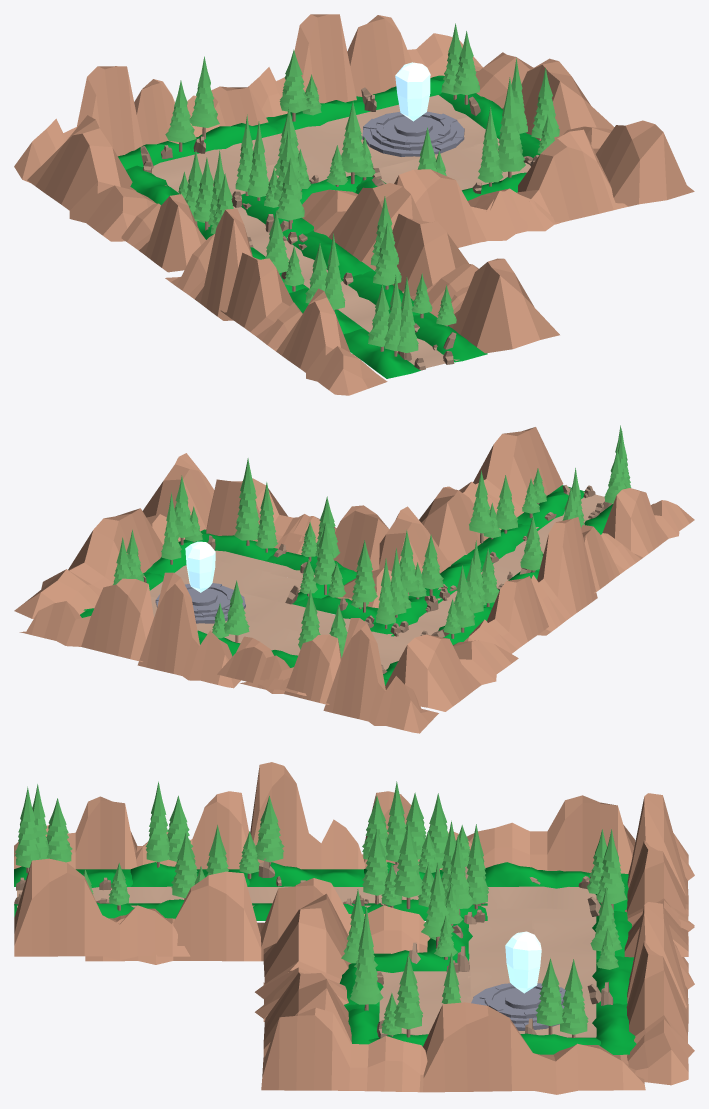
The model's file is scena.fbx.
3 views of the same model, one above another, from view 1: azimuth 30°, elevation 25°; view 2: azimuth 150°, elevation 25°; view 3: azimuth 270°, elevation 25° (orthographic). The views are drawn at different scales.
Visible parts, largest first — view 1: Game_Level_Scene_Low_Poly; view 2: Game_Level_Scene_Low_Poly; view 3: Game_Level_Scene_Low_Poly.
Boxes of the visible parts, x1=… form: Game_Level_Scene_Low_Poly: x1=14, y1=14, x2=694, y2=395; Game_Level_Scene_Low_Poly: x1=14, y1=425, x2=694, y2=733; Game_Level_Scene_Low_Poly: x1=14, y1=762, x2=694, y2=1094.
Size of the model in its own units: 18.49 by 4.42 by 20.58.
